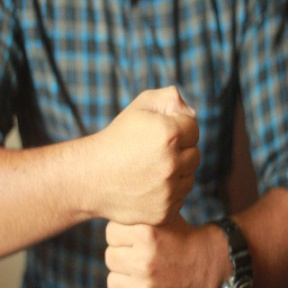G: (81, 89, 216, 288)
